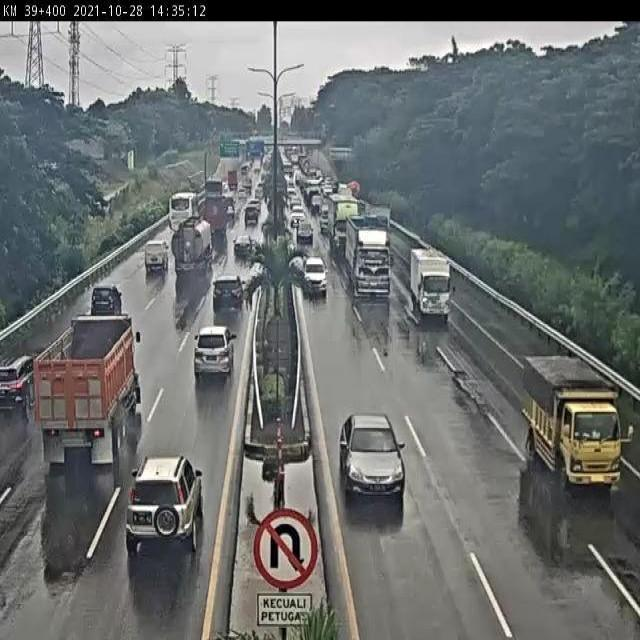big truck: (31, 311, 144, 476), (344, 212, 392, 299), (327, 192, 362, 256)
car: (124, 453, 204, 555), (337, 410, 409, 510), (190, 322, 239, 382), (0, 352, 39, 424), (210, 273, 246, 315), (301, 252, 330, 303), (90, 285, 123, 316), (143, 238, 171, 274), (231, 232, 256, 259), (295, 218, 316, 246), (289, 203, 307, 228), (319, 203, 331, 236), (243, 205, 260, 227), (309, 193, 324, 215), (247, 198, 263, 214), (237, 188, 248, 200)
small bus: (167, 191, 201, 233)
small truck: (515, 349, 640, 499), (408, 244, 458, 325), (170, 215, 218, 277)
